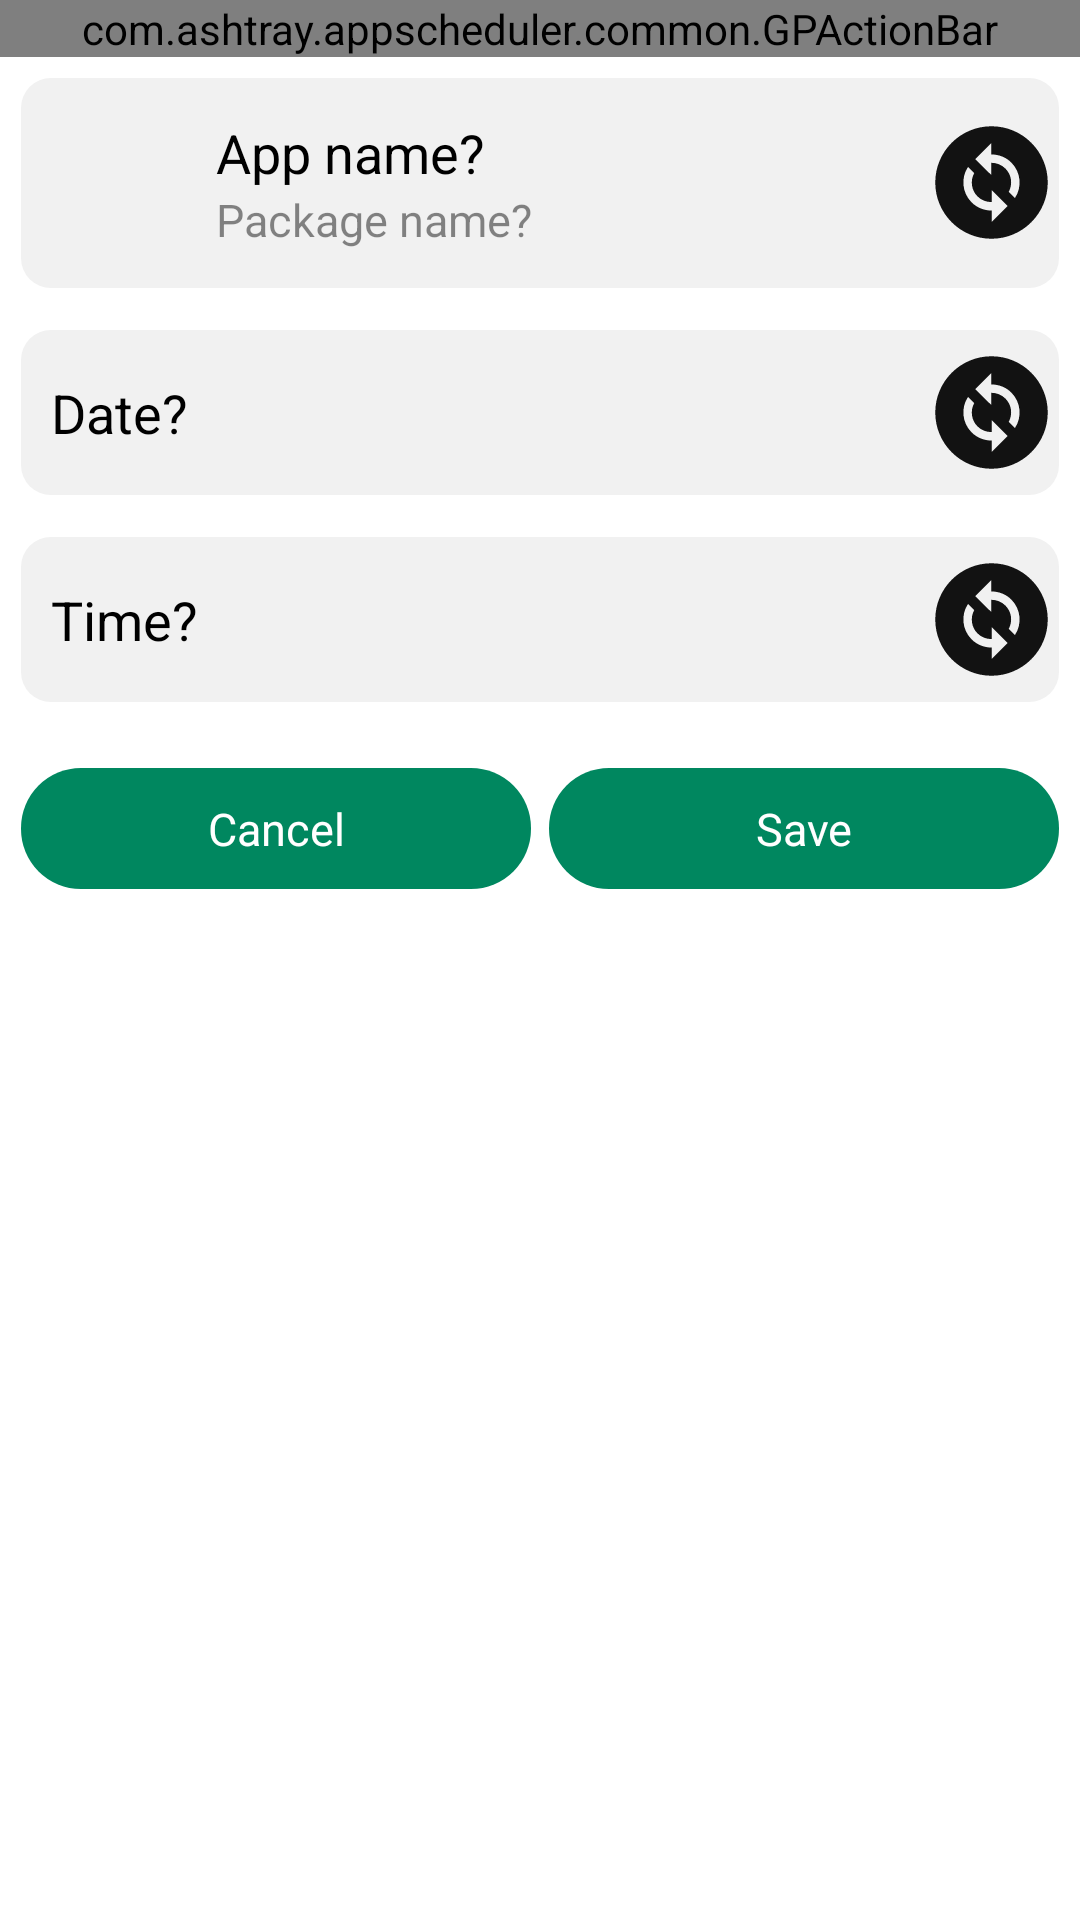

Point at icon controls on the screen. Image size 1080×1920, points as point (x, y).
change circle: point (991, 182), point (991, 412), point (991, 619)
